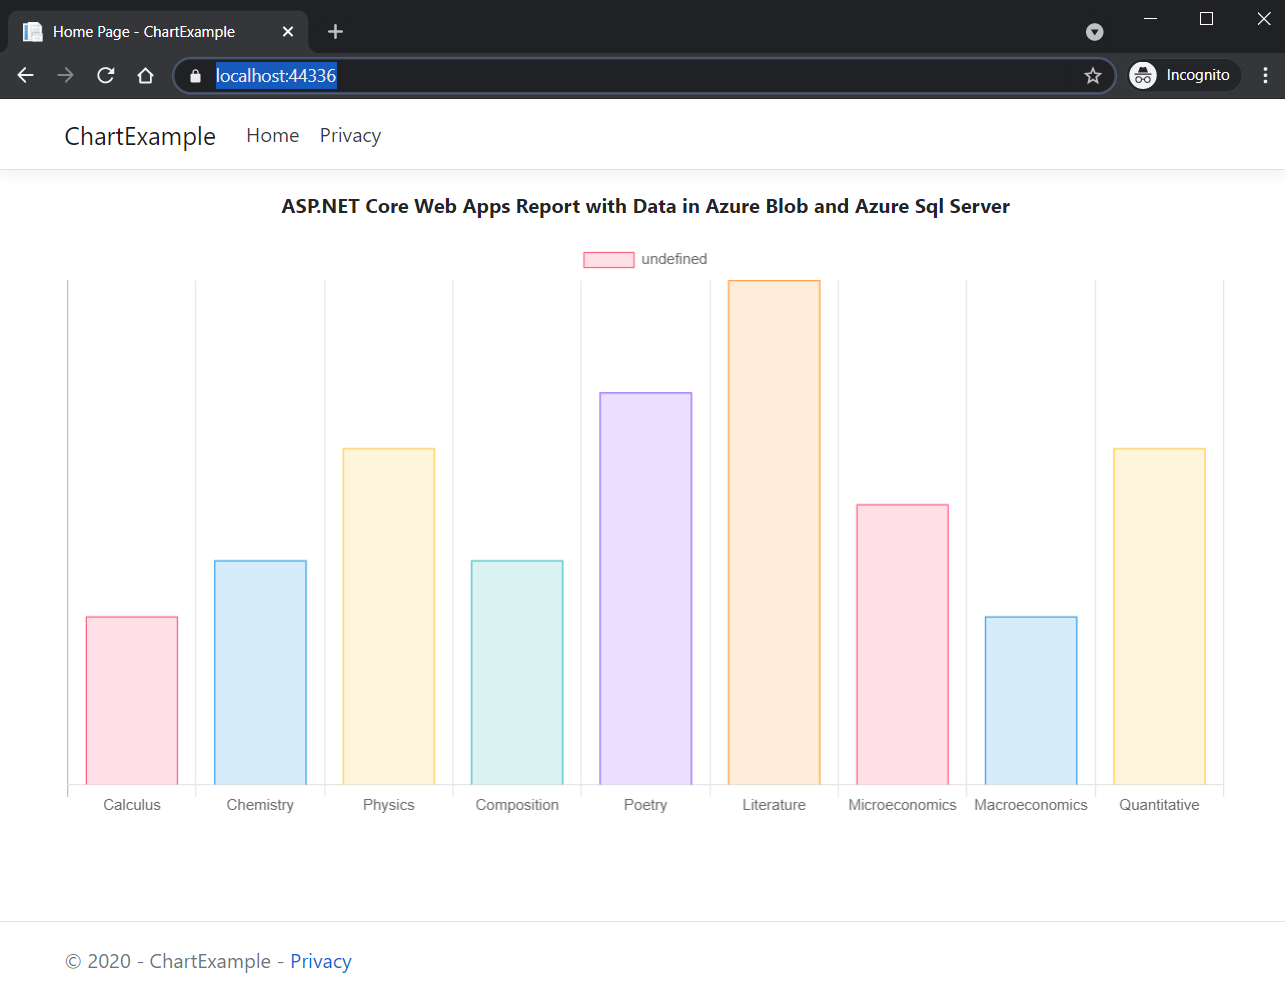

The dashboard page shown, as its layout file describes it:
{"tool":"powerbi","page":{"name":"Page 1","canvas":[1280,720],"ordinal":0},"visuals":[{"type":"columnChart","fields":{"Y":["allcourses info.Measure"],"Category":["allcourses info.Title"]},"box":[9.6,0,1001.2,648.2],"z":0}]}

Visuals, with their boxes on the page's 1280x720 design canvas (x1, y1, x2, y2). These are canvas units, not pixel positions in the 1285x992 screenshot, which may show the page scaled, cropped or inside an application window:
columnChart - allcourses info.Measure x allcourses info.Title: box=[10, 0, 1011, 648]
